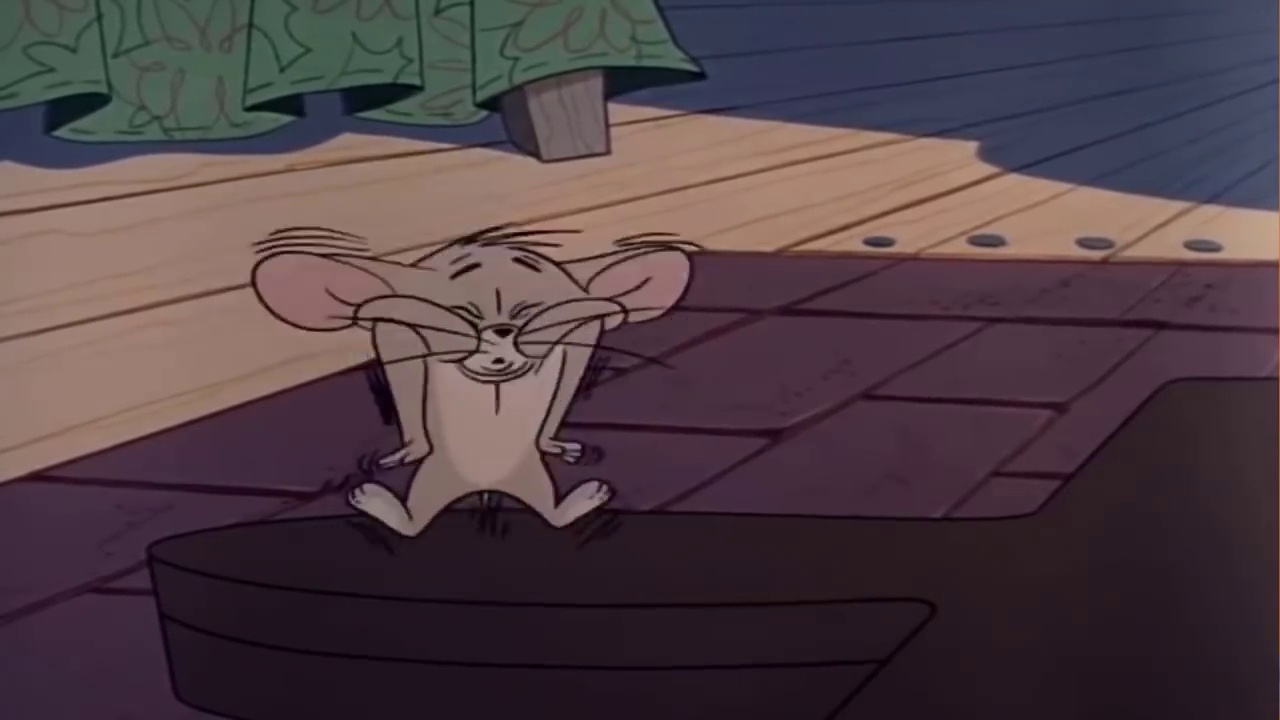face: (435, 255, 562, 384)
